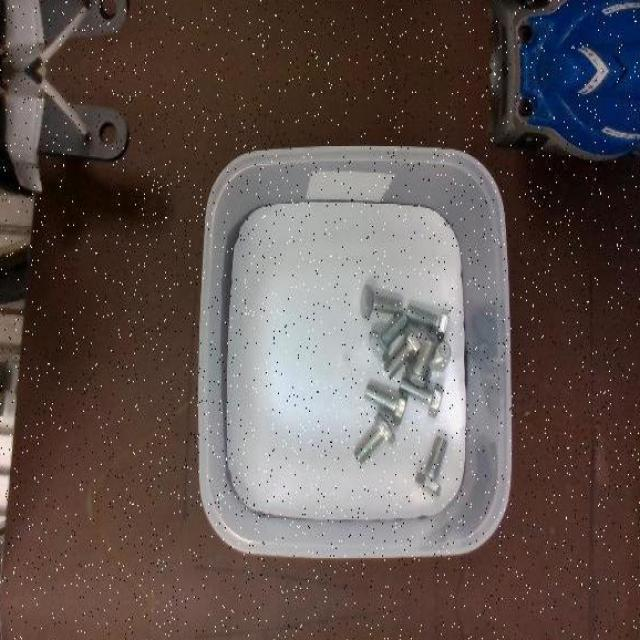screw: (354, 411, 396, 462), (414, 435, 447, 496), (368, 312, 408, 361), (363, 384, 408, 426), (404, 334, 438, 388), (405, 304, 450, 344), (360, 283, 402, 319)
